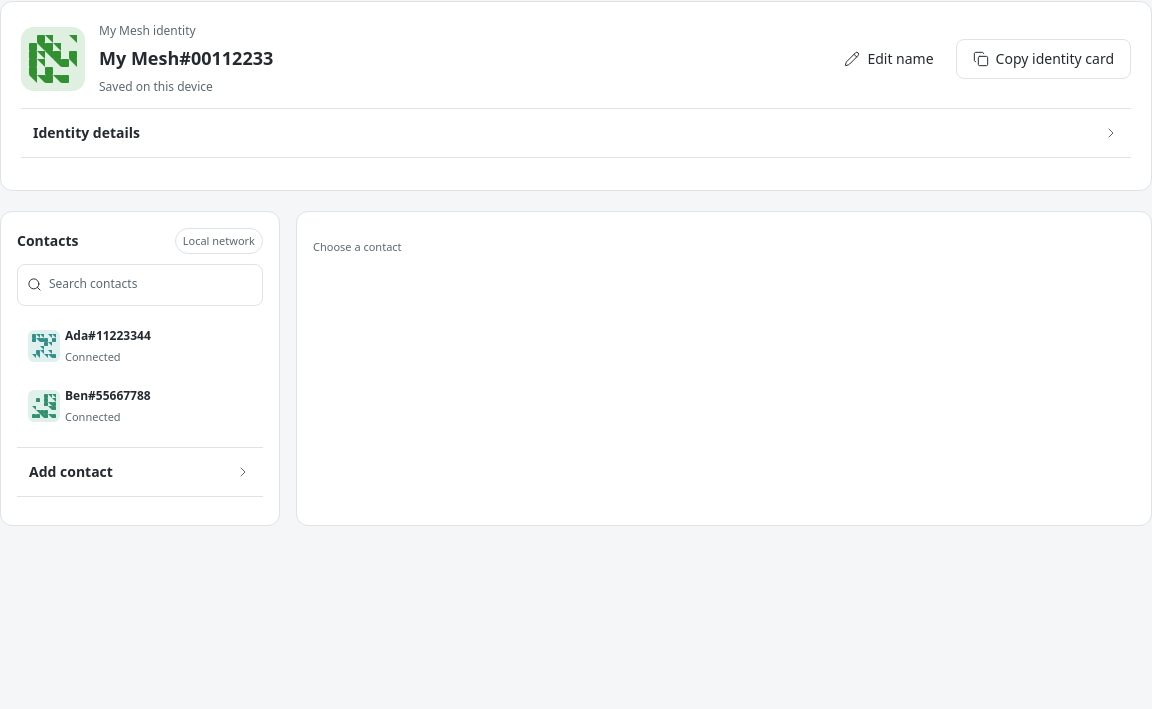
Test case: maps a starting public route to a brief retry message without exposing its code
The image size is (1152, 709).
Click the button "Add contact".
click(140, 472)  # box [17, 448, 263, 496]
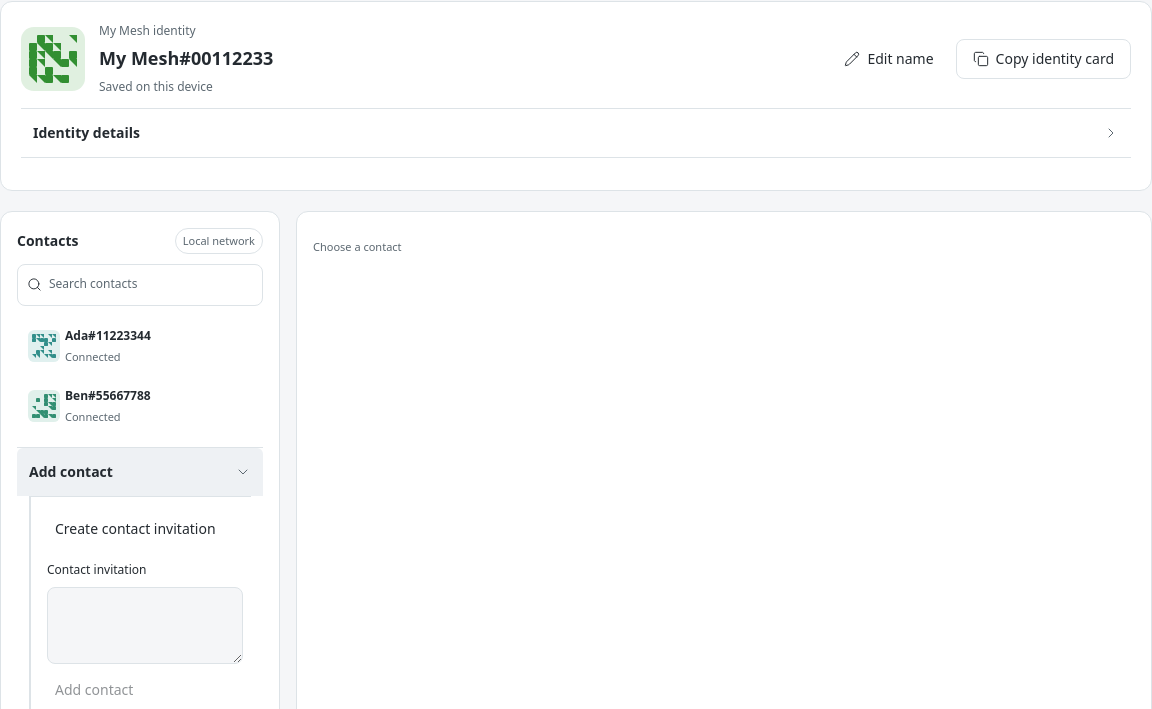
Click the button "Create contact invitation".
click(135, 529)  # box [47, 513, 224, 545]
(page scrolled)
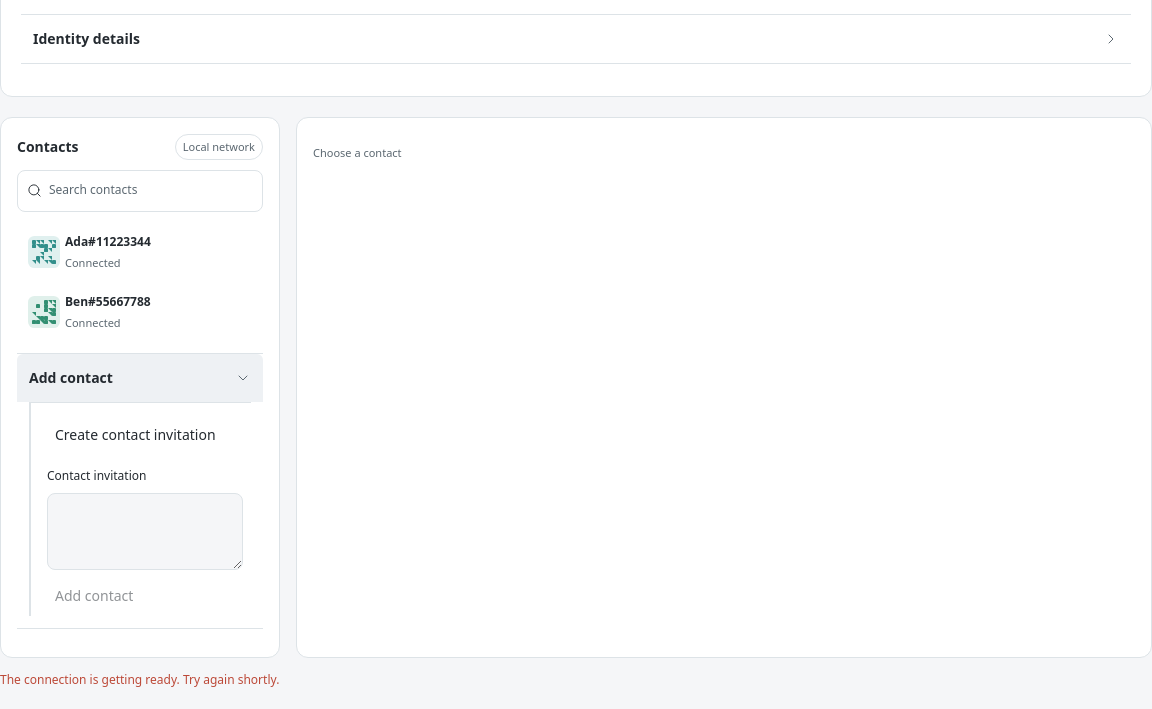
Expected: the message "The connection is getting ready. Try again shortly." is shown, [0, 671, 279, 688]
